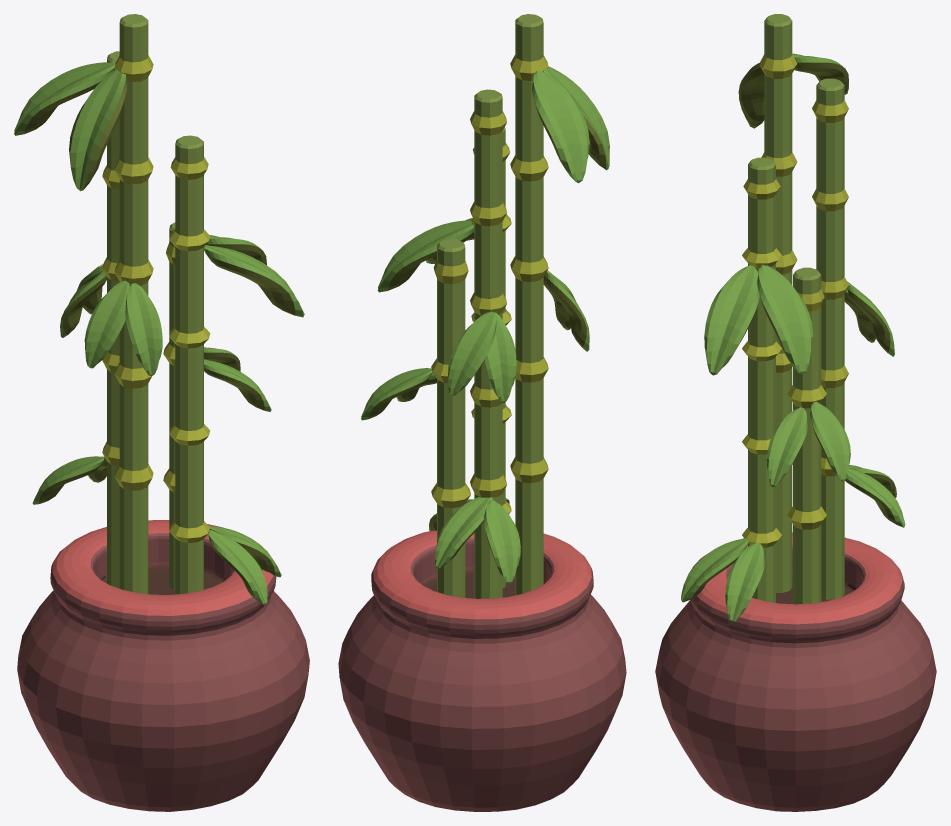
The model's file is 3D_Plant6.fbx.
The picture shows the model from 3 angles, left to right: view 1: azimuth 30°, elevation 25°; view 2: azimuth 150°, elevation 25°; view 3: azimuth 270°, elevation 25°; orthographic projection. The views are drawn at different scales.
Visible parts, largest first — view 1: 3D_Plant6; view 2: 3D_Plant6; view 3: 3D_Plant6.
Part boxes in pixels (box(x1,y1,x2,y2)): 3D_Plant6: box(14, 14, 309, 811); 3D_Plant6: box(338, 14, 626, 811); 3D_Plant6: box(655, 14, 936, 811).
Size of the model in its own units: 69.79 by 203 by 69.8.
